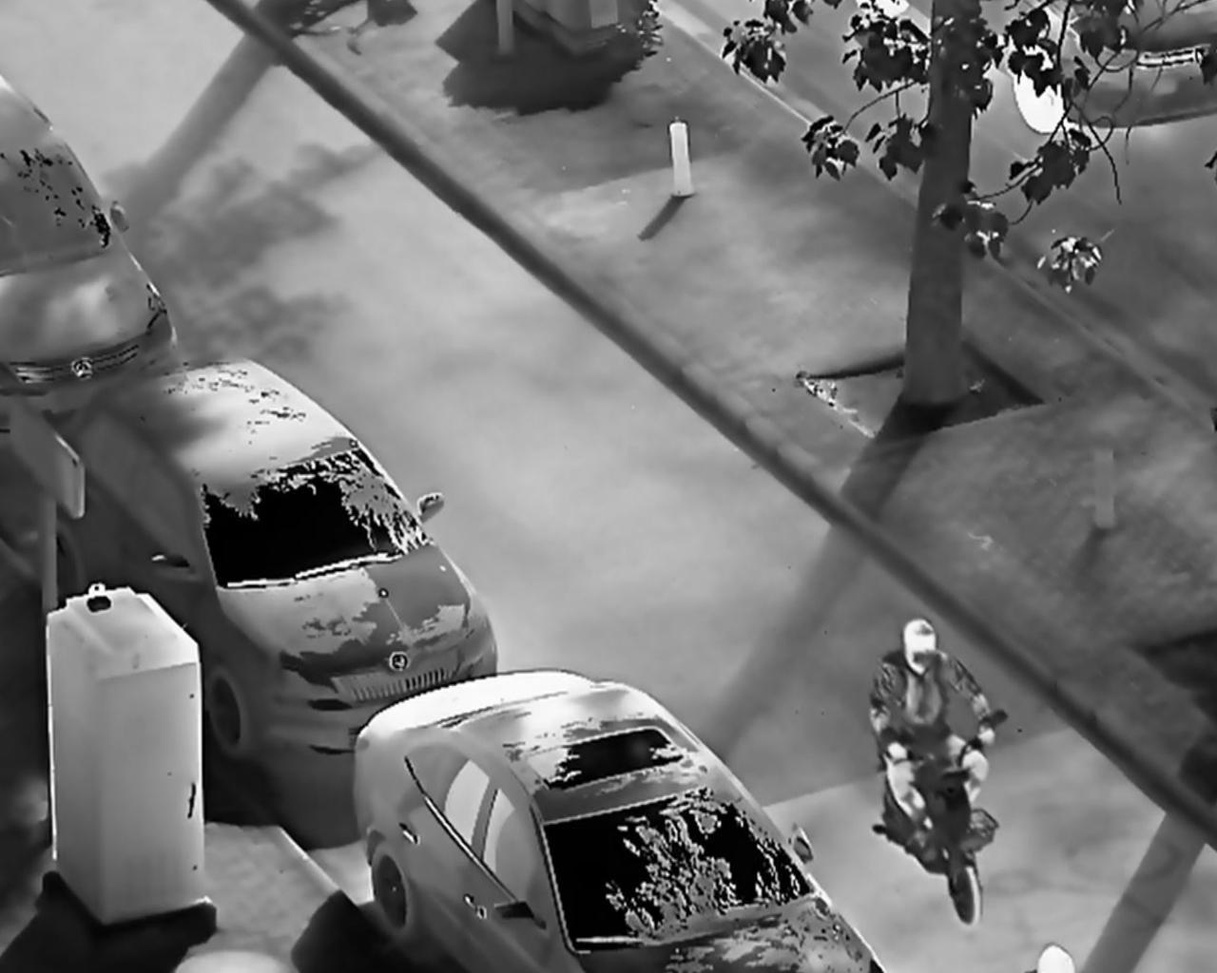person: (866, 617, 998, 860)
